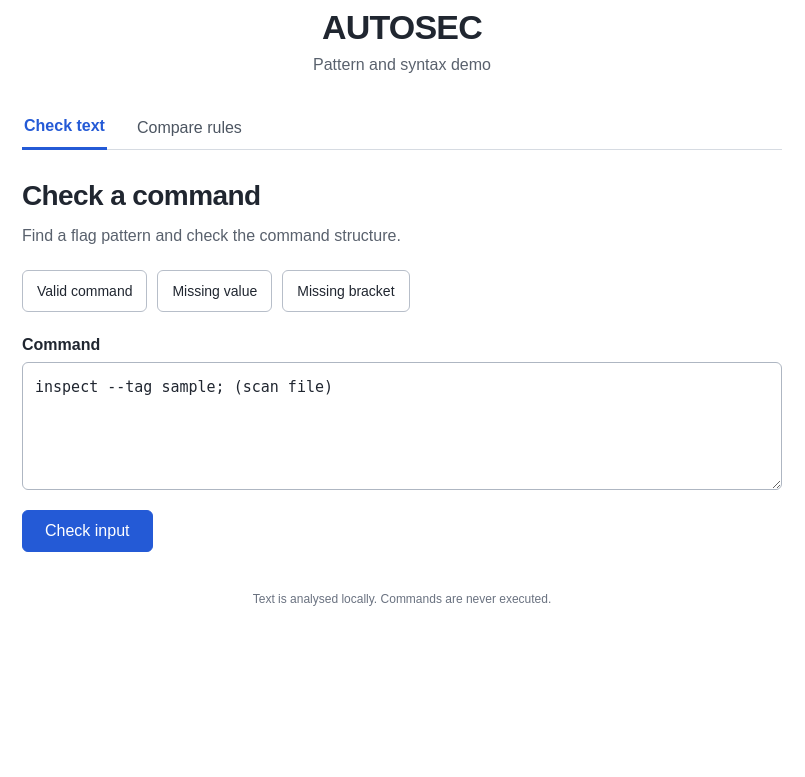
Test: Small demo flows › clears old results on edits and handles plain commands and lexical errors
Click the button "Valid command": (85, 291) [22,270,148,312]
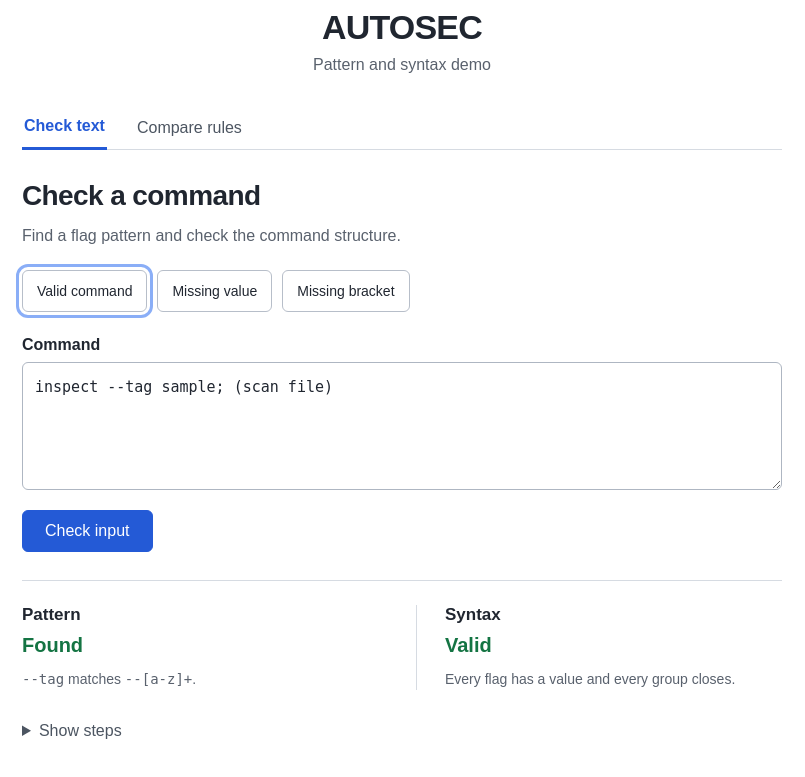
Check: the text "Valid" is shown, box [445,634,492,656]
Clear the text box labelled "Command": (402, 426) [22,362,782,490]
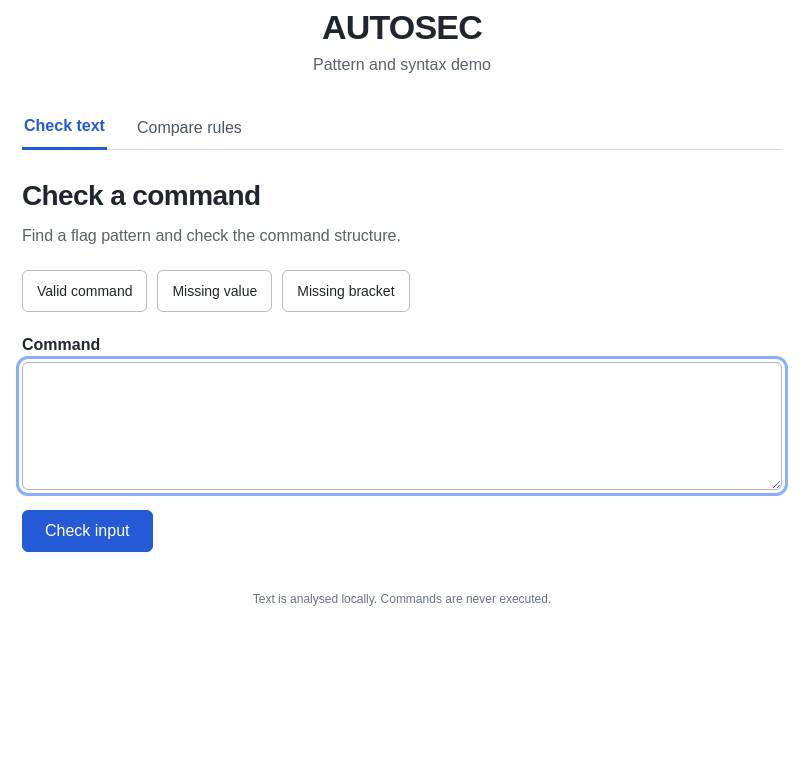
In the text box labelled "Command": (402, 426) [22,362,782,490], type "inspect file"
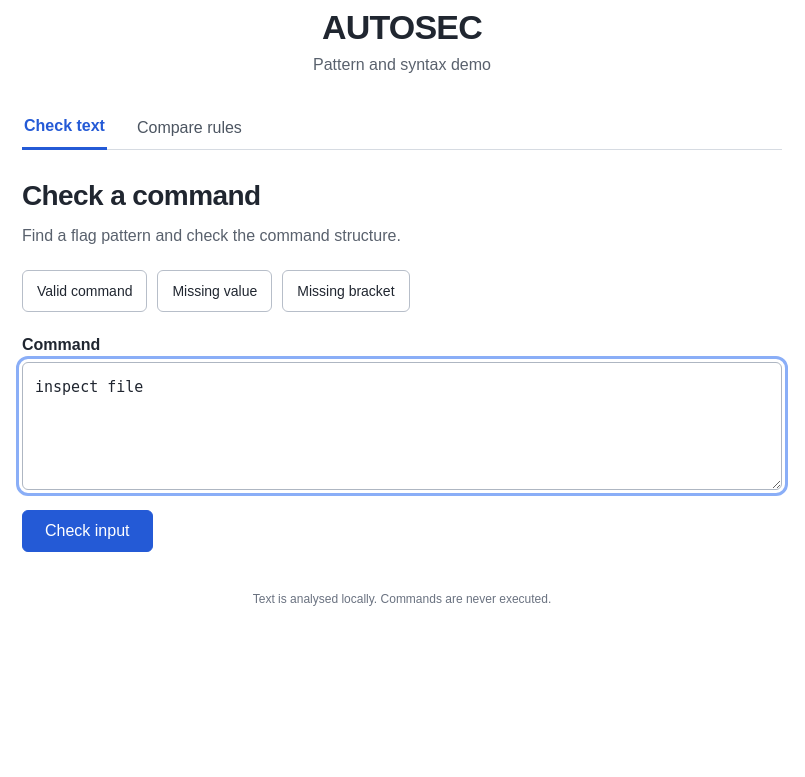
Click the button "Check input": (87, 531) [22,510,152,552]
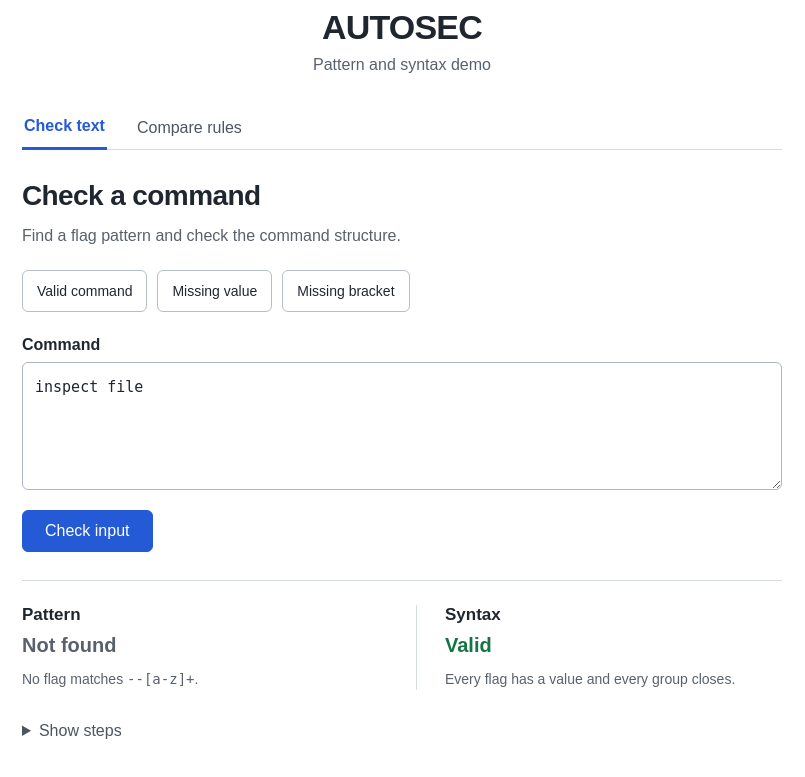
Check: the text "Not found" is shown, box [22,634,116,656]
Check: the text "Valid" is shown, box [445,634,492,656]
In the text box labelled "Command": (402, 426) [22,362,782,490], type " @"
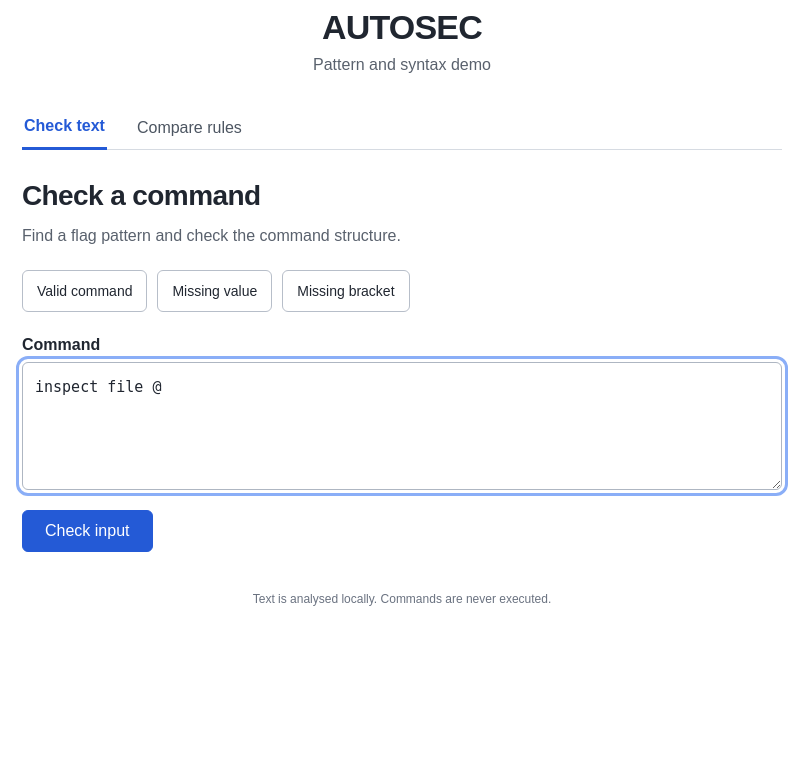
Click the button "Check input": (87, 531) [22,510,152,552]
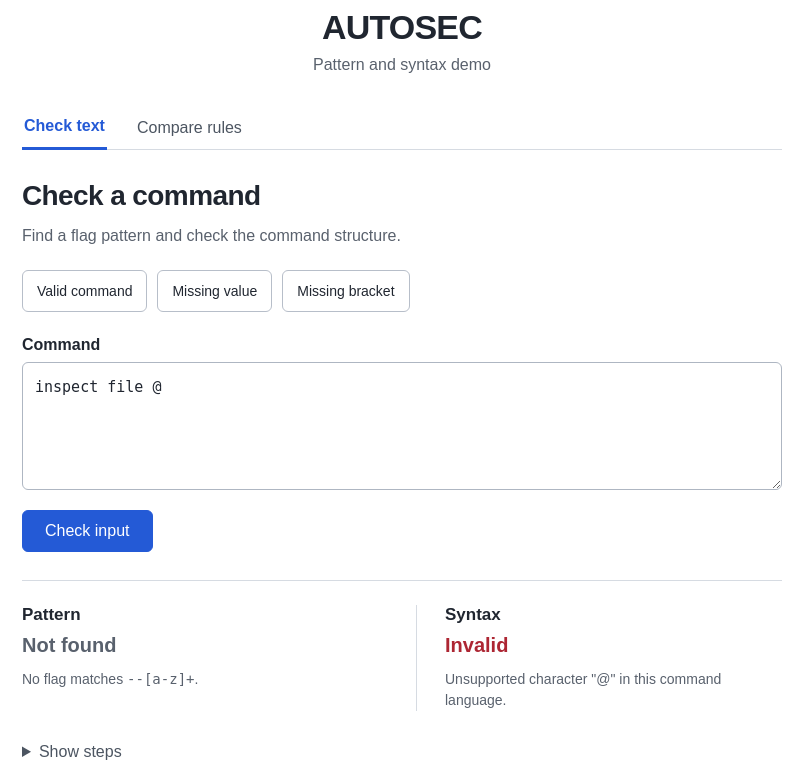
Check: the text "Unsupported character \"@\" in this command language." is shown, box [445,671,721,708]
Check: the text "Invalid" is shown, box [445,634,508,656]
